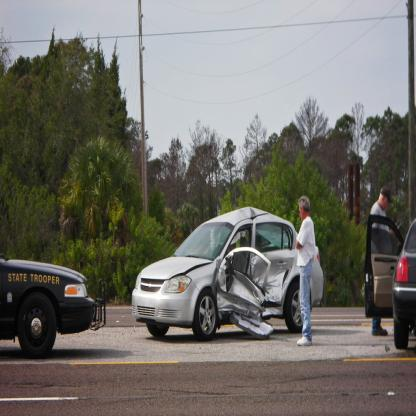Car: (132, 207, 325, 343), (1, 254, 107, 359), (364, 214, 416, 351)
